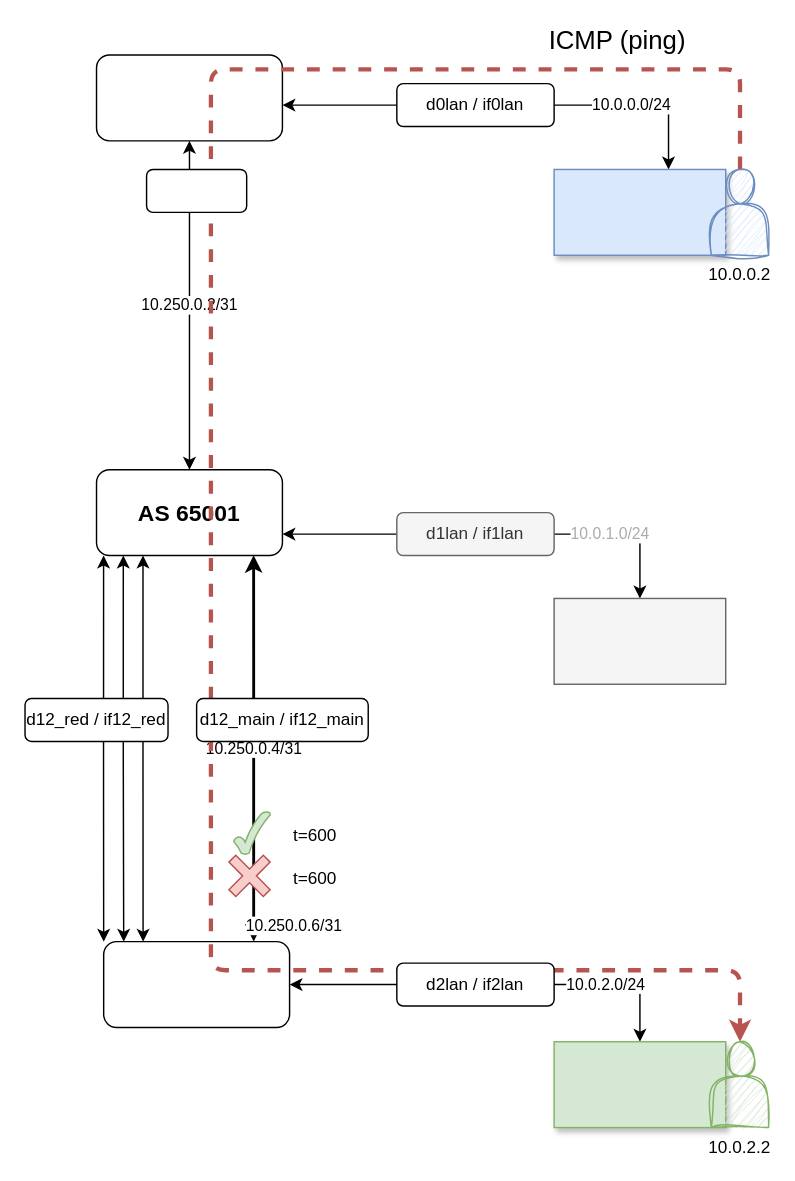
Image size: 795x1181. Some labels were removed from this diagram. Here are the shapes that lost their labels. From the top down, the centre of each, then its label:
At pixel 188 97: "AS 65000".
At pixel 196 190: "d01 / if01".
At pixel 196 983: "AS 65002".
